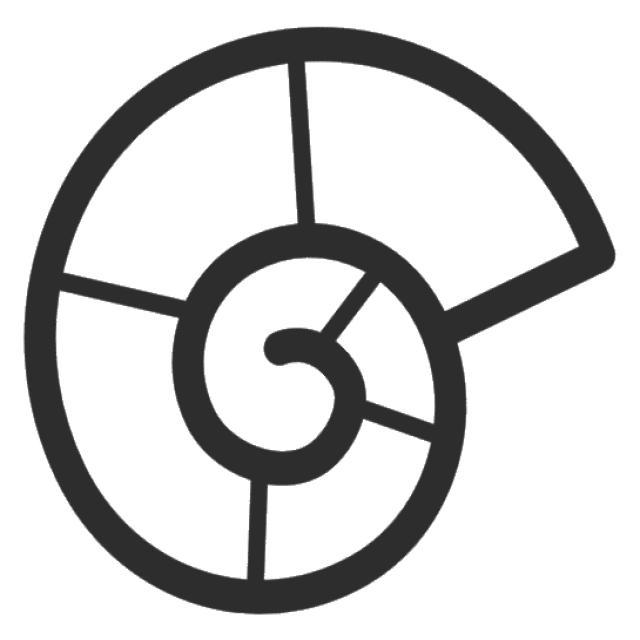fossil: (14, 18, 624, 626)
